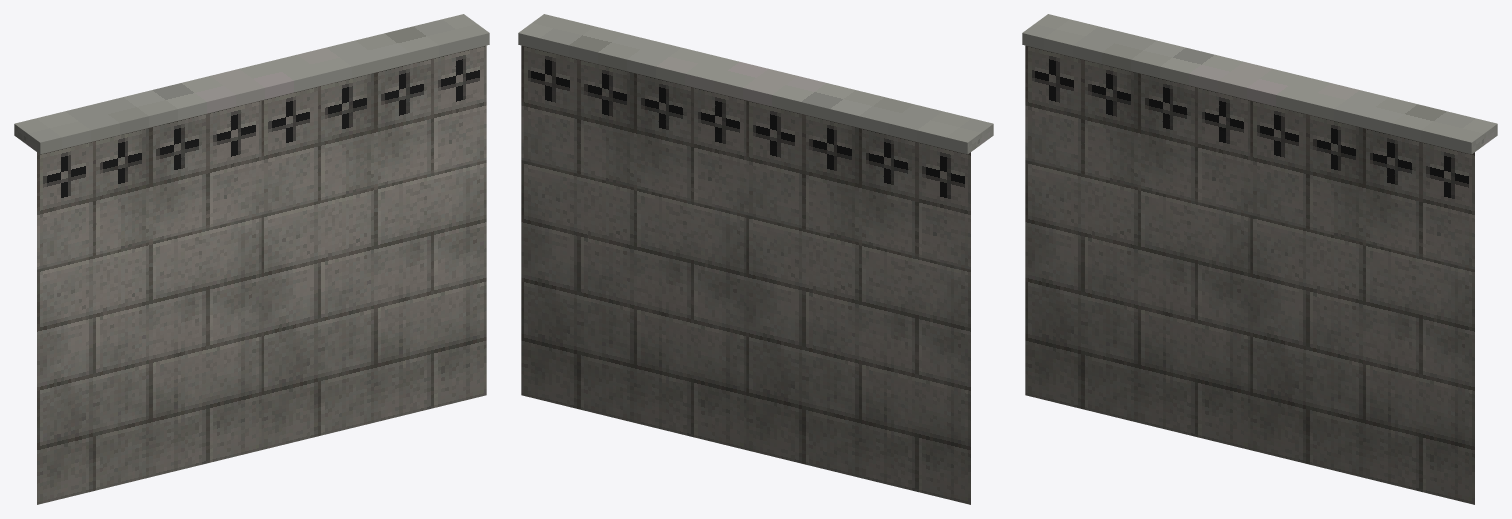
Rendered from wall_block.glb.
3 renders of one model, left to right at view 1: azimuth 30°, elevation 25°; view 2: azimuth 150°, elevation 25°; view 3: azimuth 330°, elevation 25°, orthographic.
Parts seen in each view (by area): view 1: wall_block; view 2: wall_block; view 3: wall_block.
Part boxes in pixels (x1=…): wall_block: x1=14, y1=14, x2=489, y2=504; wall_block: x1=518, y1=14, x2=993, y2=504; wall_block: x1=1022, y1=14, x2=1497, y2=504.
Bounding box in the file's own units: 2 × 1.55 × 0.2.
Materials: 2 (2 with a texture image).
